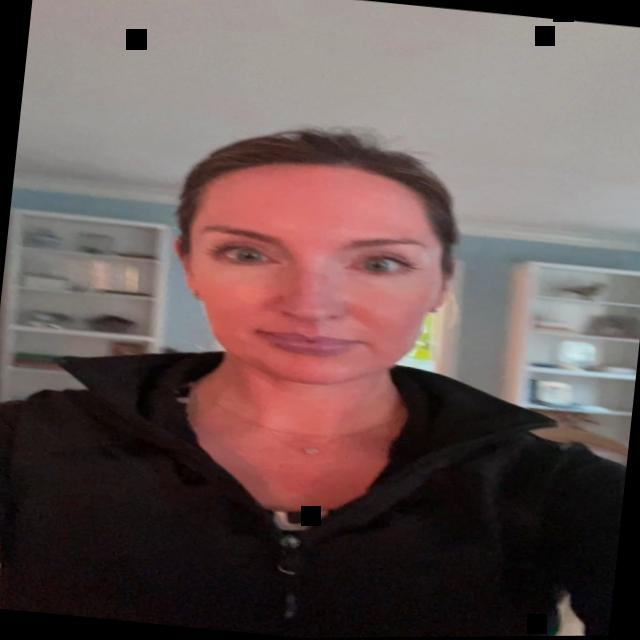NO-Mask: (150, 128, 472, 420)
